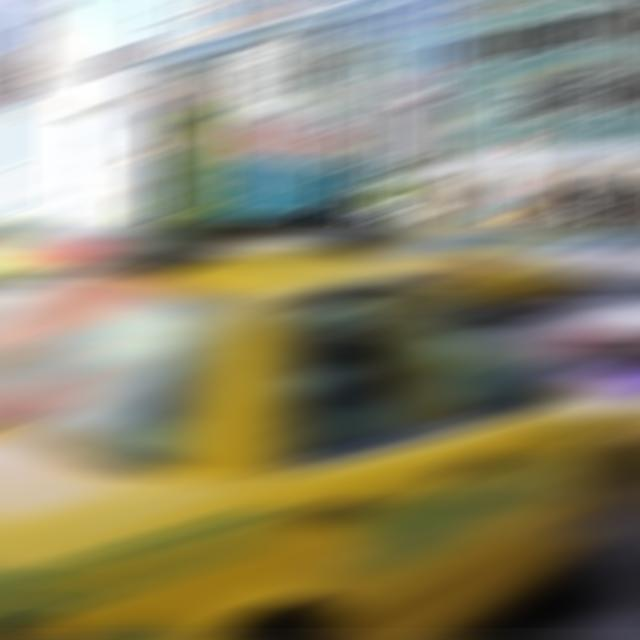Taxi: (0, 219, 640, 637)
